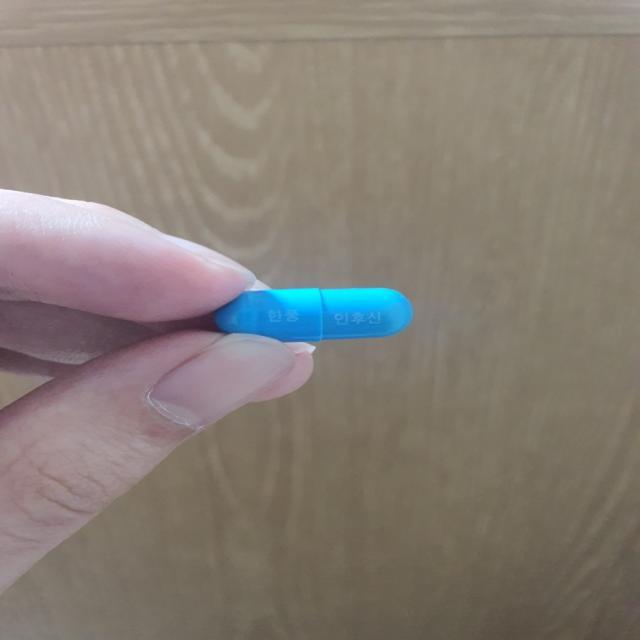pill: (216, 285, 418, 343)
